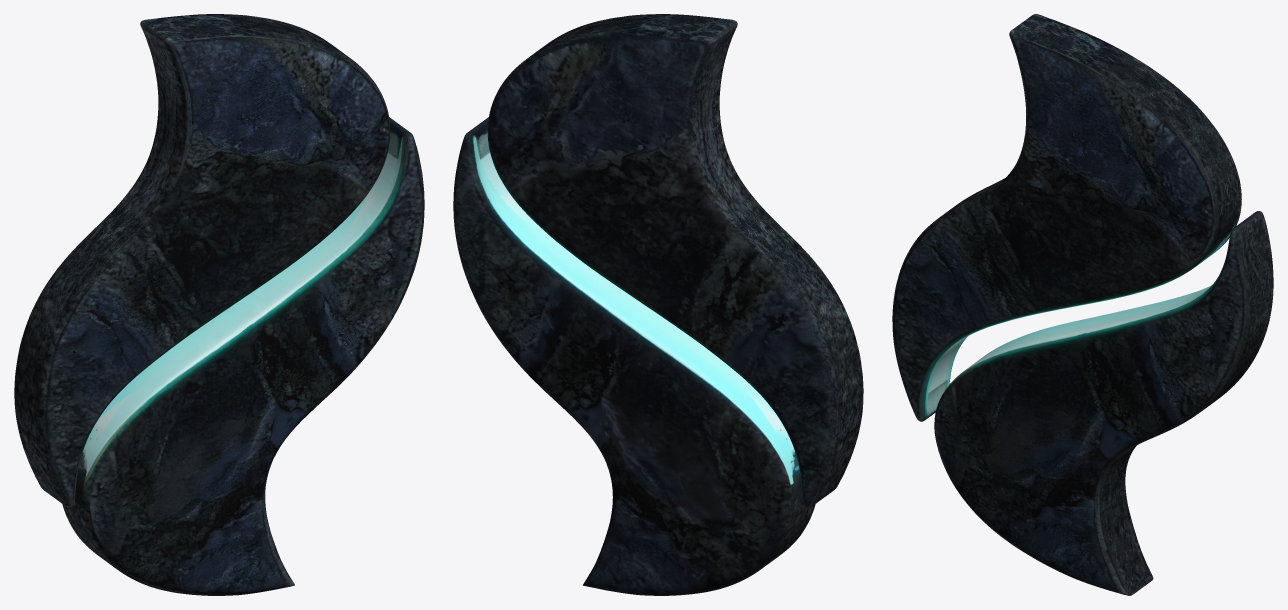
File: opt_Luminous_Serpent_0508010451.glb
The picture shows the model from 3 angles, left to right: view 1: azimuth 30°, elevation 25°; view 2: azimuth 150°, elevation 25°; view 3: azimuth 330°, elevation 25°; orthographic projection. The views are drawn at different scales.
Bounding box in the file's own units: 1.32 × 1.9 × 0.1984.
Materials: 1 (1 with a texture image).
